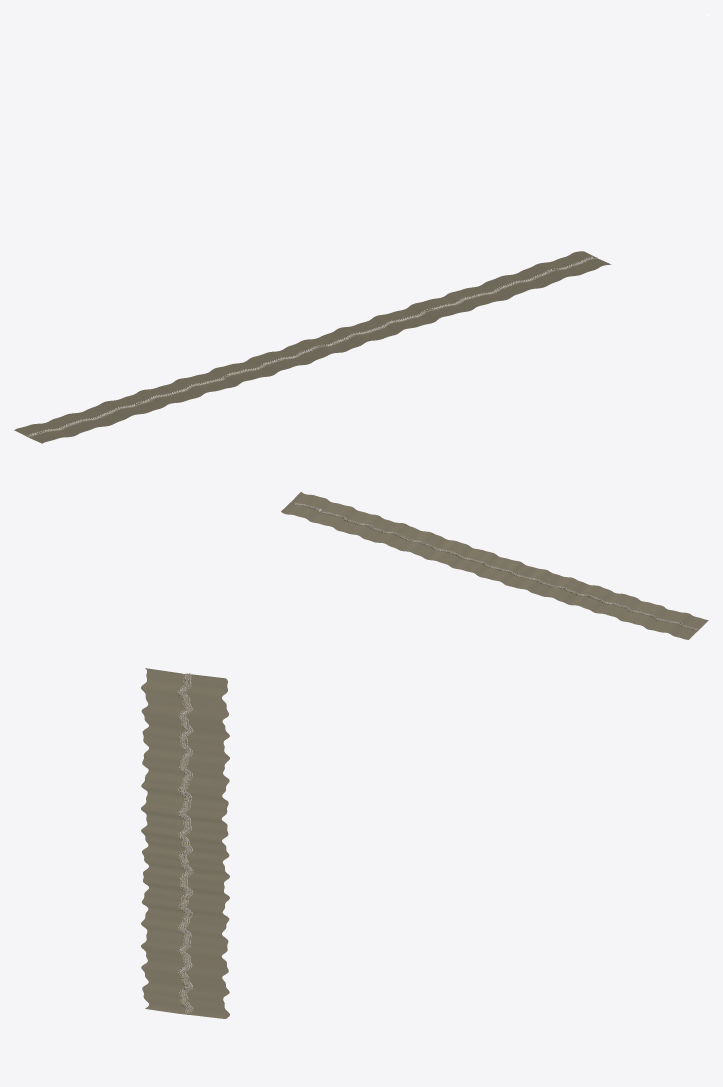
The model's file is montmartre.glb.
3 renders of one model, top to bottom at view 1: azimuth 30°, elevation 25°; view 2: azimuth 150°, elevation 25°; view 3: azimuth 270°, elevation 25°, orthographic. The views are drawn at different scales.
Parts seen in each view (by area): view 1: Land_004, Land_005, Land_007, Land_001, Land_003, Land_006, Land_008, Land_002, Land_000; view 2: Land_007, Land_004, Land_001, Land_005, Land_003, Land_006, Land_002, Land_008, Land_000; view 3: Land_000, Land_002, Land_003, Land_007, Land_001, Land_004, Land_006, Land_008, Land_005.
Part boxes in pixels (left/top/right/bottom): Land_004: left=265, top=333, right=357, bottom=366; Land_005: left=330, top=312, right=420, bottom=346; Land_007: left=457, top=273, right=550, bottom=305; Land_001: left=83, top=393, right=169, bottom=427; Land_003: left=206, top=353, right=293, bottom=387; Land_006: left=393, top=291, right=479, bottom=325; Land_008: left=517, top=251, right=602, bottom=283; Land_002: left=136, top=373, right=228, bottom=403; Land_000: left=14, top=412, right=97, bottom=443; Land_007: left=331, top=505, right=393, bottom=540; Land_004: left=463, top=550, right=526, bottom=585; Land_001: left=602, top=593, right=666, bottom=625; Land_005: left=418, top=535, right=482, bottom=569; Land_003: left=508, top=566, right=575, bottom=597; Land_006: left=371, top=522, right=437, bottom=554; Land_002: left=553, top=579, right=614, bottom=613; Land_008: left=281, top=494, right=344, bottom=526; Land_000: left=641, top=609, right=708, bottom=639; Land_000: left=141, top=668, right=228, bottom=721; Land_002: left=142, top=748, right=229, bottom=795; Land_003: left=141, top=783, right=228, bottom=833; Land_007: left=141, top=931, right=228, bottom=977; Land_001: left=141, top=705, right=229, bottom=753; Land_004: left=141, top=823, right=229, bottom=869; Land_006: left=141, top=895, right=229, bottom=944; Land_008: left=142, top=972, right=229, bottom=1018; Land_005: left=143, top=859, right=229, bottom=905.
Bounding box in the file's own units: 12051 × 1764 × 3926.
